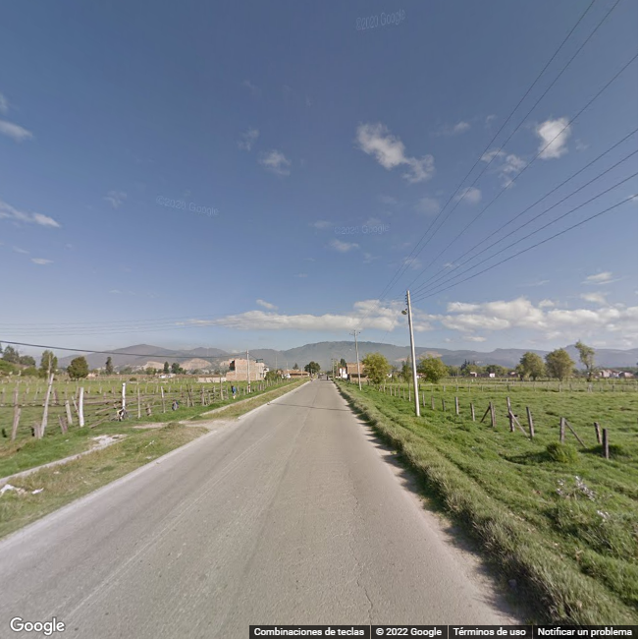D00: (291, 491, 310, 583), (361, 580, 380, 629)
